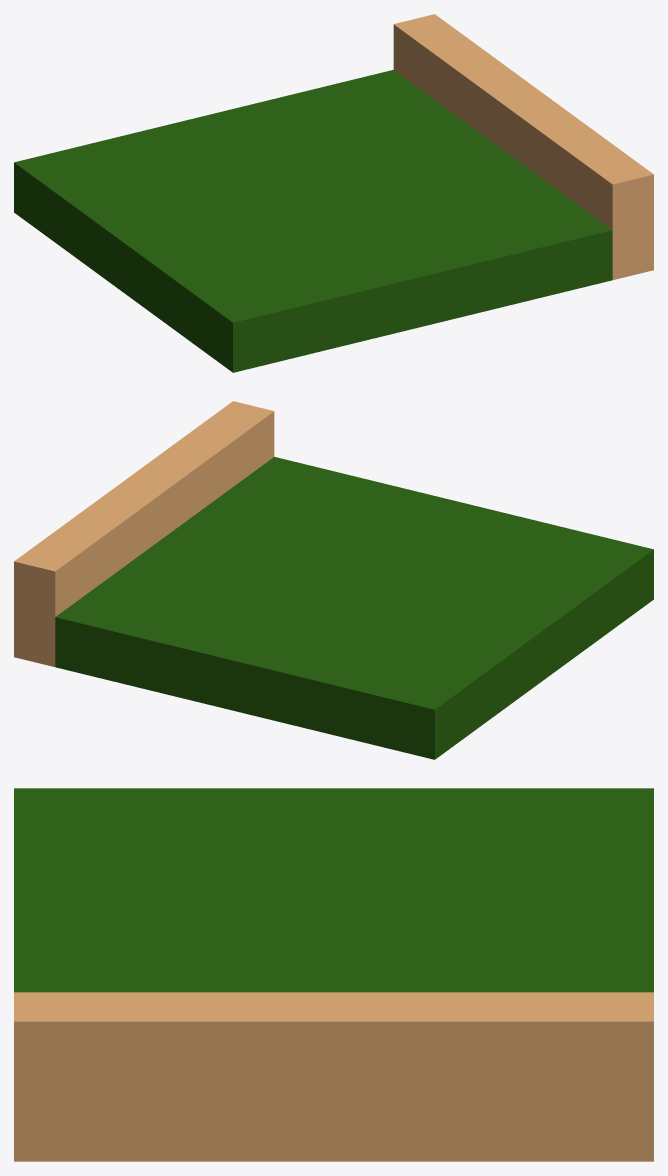
Rendered from NewLego10.fbx.
The picture shows the model from 3 angles, top to bottom: view 1: azimuth 30°, elevation 25°; view 2: azimuth 150°, elevation 25°; view 3: azimuth 270°, elevation 25°; orthographic projection. The views are drawn at different scales.
Visible parts, largest first — view 1: Cube.075, Cube.069; view 2: Cube.075, Cube.069; view 3: Cube.075, Cube.069.
Boxes of the visible parts, <box> form: Cube.075: <box>14,70,612,372</box>; Cube.069: <box>393,14,653,279</box>; Cube.075: <box>55,457,653,759</box>; Cube.069: <box>14,401,274,666</box>; Cube.075: <box>14,788,653,992</box>; Cube.069: <box>14,992,653,1161</box>.
Bounding box in the file's own units: 201 × 43.6 × 181.
